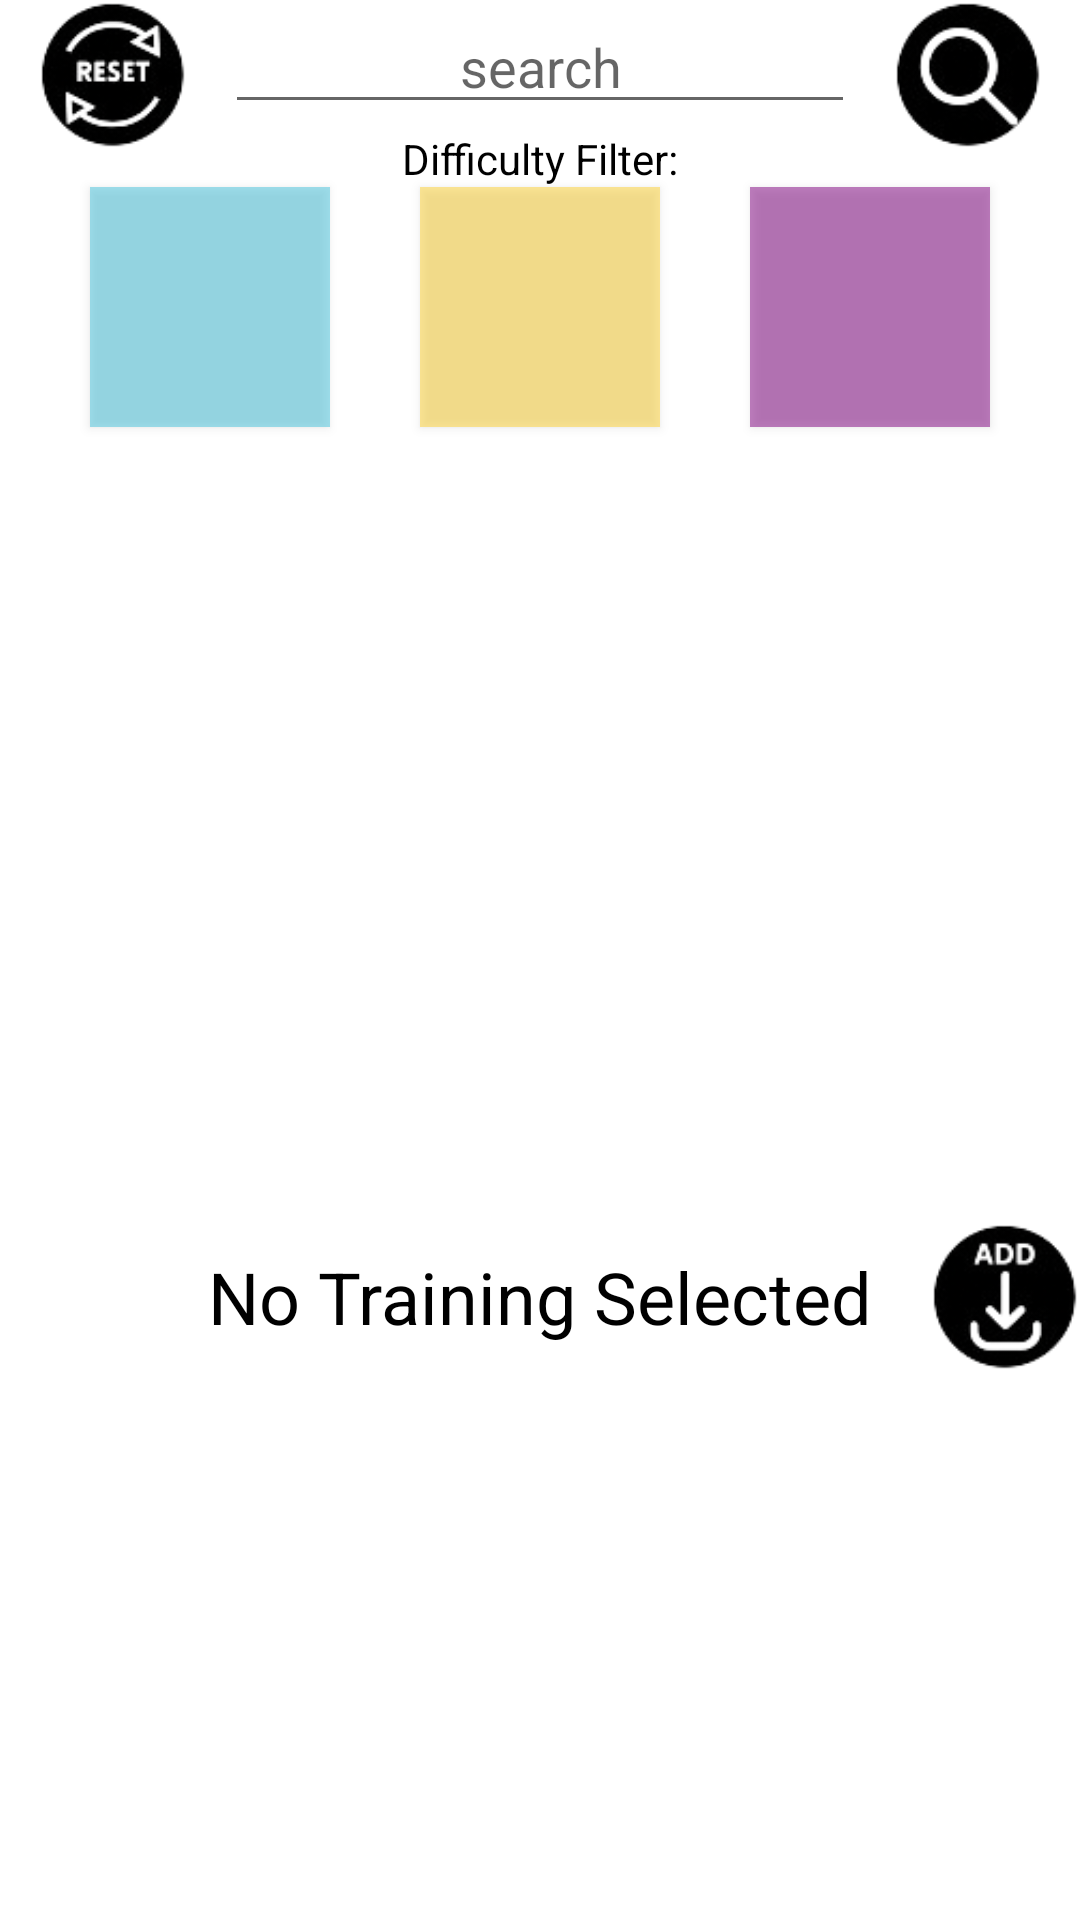

Locate icon controls on the screen. Image size 1080*1920, boxes as (x1, y1, x2, y2).
download: (933, 1225, 1077, 1369)
